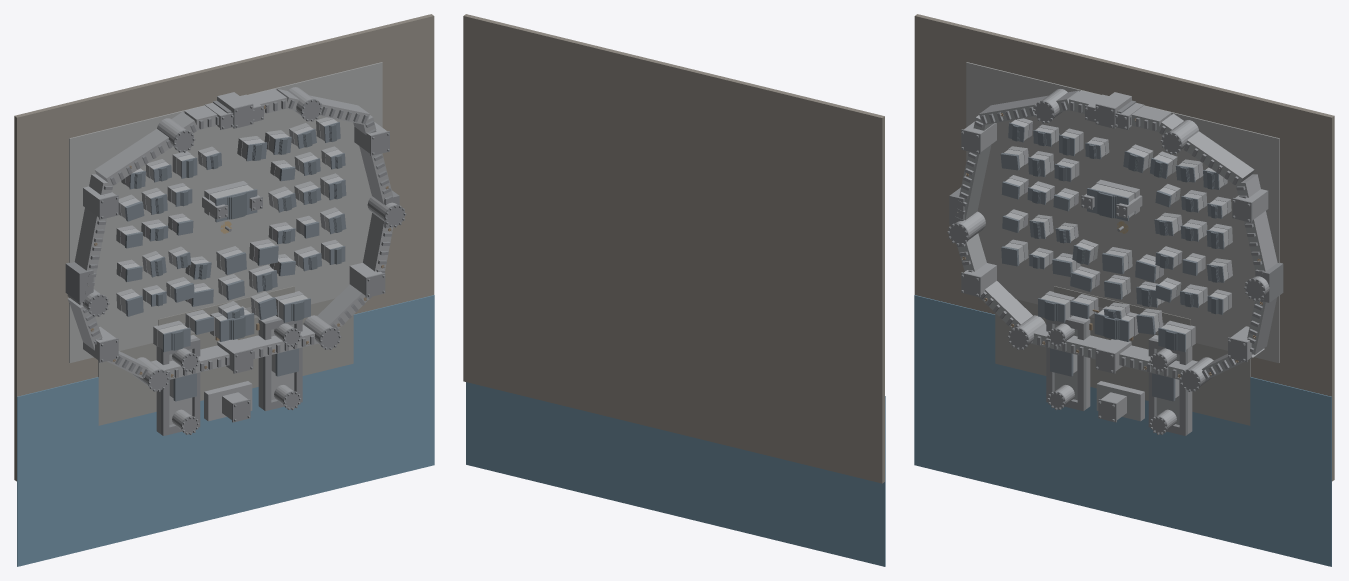
File: Khuktul_v1.glb
The picture shows the model from 3 angles, left to right: view 1: azimuth 30°, elevation 25°; view 2: azimuth 150°, elevation 25°; view 3: azimuth 330°, elevation 25°; orthographic projection.
Visible parts, largest first — view 1: Sea_Plane, Ground_Platform, City_Terrace, Harbor_Apron, Wall_1, Wall_7, Wall_0, Wall_4, Wall_5, Wall_6, Breakwater, Wall_2 (+11 smaller); view 2: Ground_Platform, Sea_Plane; view 3: Sea_Plane, Ground_Platform, City_Terrace, Harbor_Apron, Wall_3, Wall_7, Wall_4, Wall_0, Wall_8, Wall_1, Wall_2, Breakwater (+10 smaller).
Boxes of the visible parts, x1=… form: Sea_Plane: x1=17, y1=295, x2=434, y2=566; Ground_Platform: x1=14, y1=14, x2=434, y2=481; City_Terrace: x1=69, y1=62, x2=382, y2=362; Harbor_Apron: x1=98, y1=298, x2=353, y2=425; Wall_1: x1=94, y1=112, x2=198, y2=185; Wall_7: x1=151, y1=324, x2=318, y2=379; Wall_0: x1=67, y1=174, x2=112, y2=305; Wall_4: x1=353, y1=115, x2=392, y2=204; Wall_5: x1=363, y1=213, x2=393, y2=271; Wall_6: x1=317, y1=284, x2=369, y2=328; Breakwater: x1=204, y1=381, x2=252, y2=421; Wall_2: x1=184, y1=89, x2=286, y2=130; Ground_Platform: x1=463, y1=14, x2=884, y2=483; Sea_Plane: x1=466, y1=382, x2=885, y2=566; Sea_Plane: x1=914, y1=295, x2=1331, y2=566; Ground_Platform: x1=914, y1=14, x2=1334, y2=481; City_Terrace: x1=966, y1=62, x2=1279, y2=362; Harbor_Apron: x1=995, y1=299, x2=1250, y2=425; Wall_3: x1=1157, y1=113, x2=1254, y2=186; Wall_7: x1=1030, y1=324, x2=1197, y2=379; Wall_4: x1=1236, y1=174, x2=1277, y2=271; Wall_0: x1=959, y1=115, x2=993, y2=220; Wall_8: x1=982, y1=281, x2=1032, y2=328; Wall_1: x1=979, y1=90, x2=1079, y2=124; Wall_2: x1=1069, y1=90, x2=1171, y2=131; Breakwater: x1=1096, y1=381, x2=1144, y2=421.
Bounding box in the file's own units: 360 × 370 × 33.9.
